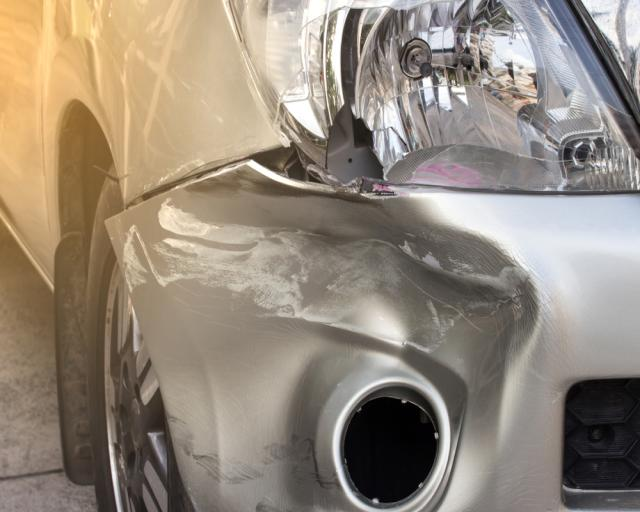dent: (163, 166, 541, 512)
lamp broken: (230, 0, 640, 195)
scratch: (120, 199, 167, 295)
